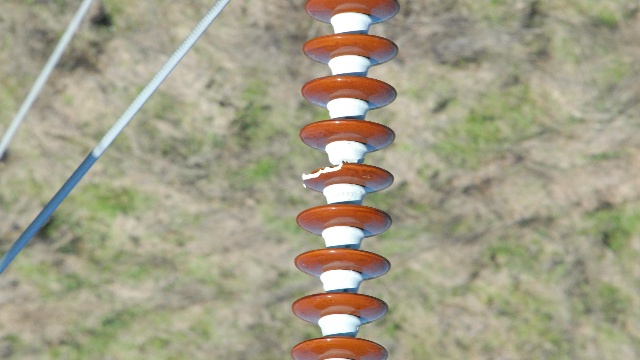broken_local: (300, 159, 346, 189)
insulator_unspecified: (288, 0, 404, 358)
